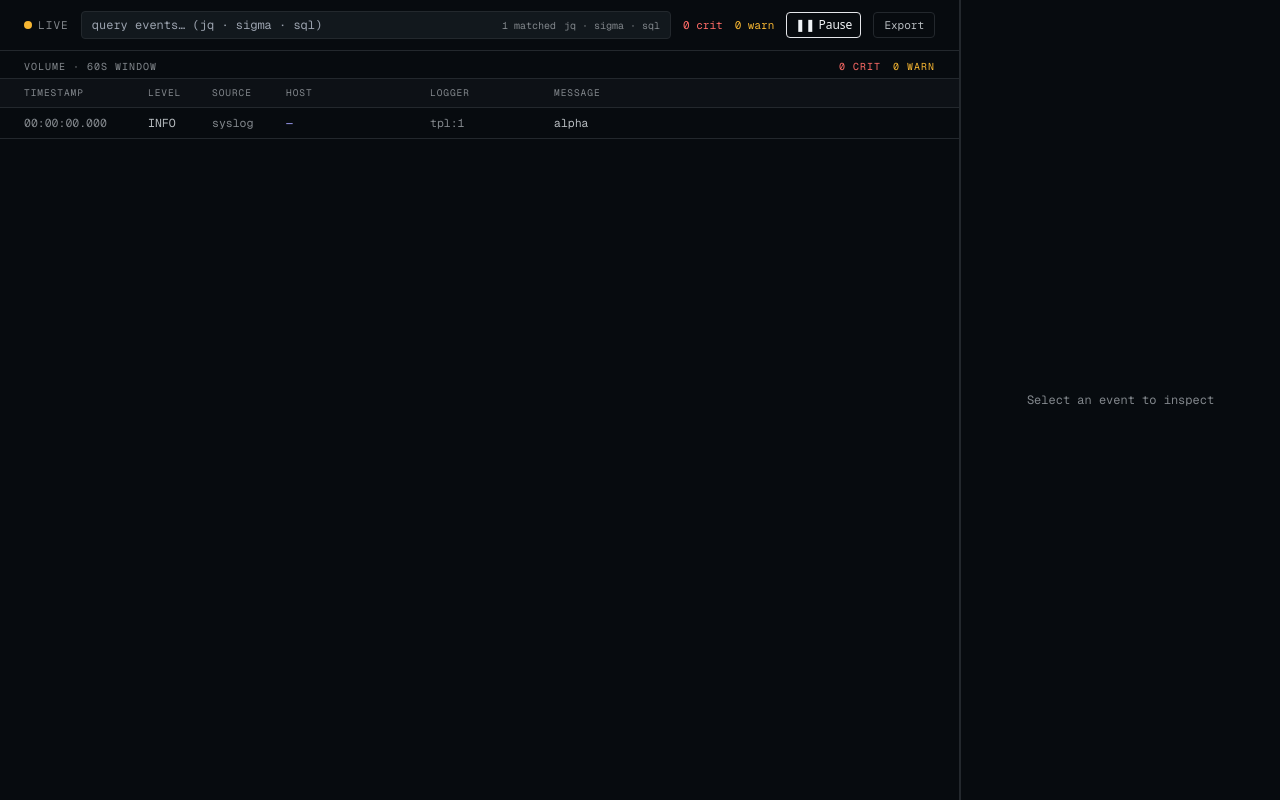
it: EventsScreen › shows an empty-match message when a query matches nothing
The width and height of the screenshot is (1280, 800).
Expected: the text "1 matched" is shown, [502,18,556,32]
Type "zzznotpresent" into the field with test id "event-query-field" at (293, 25), box [92,16,494,34]
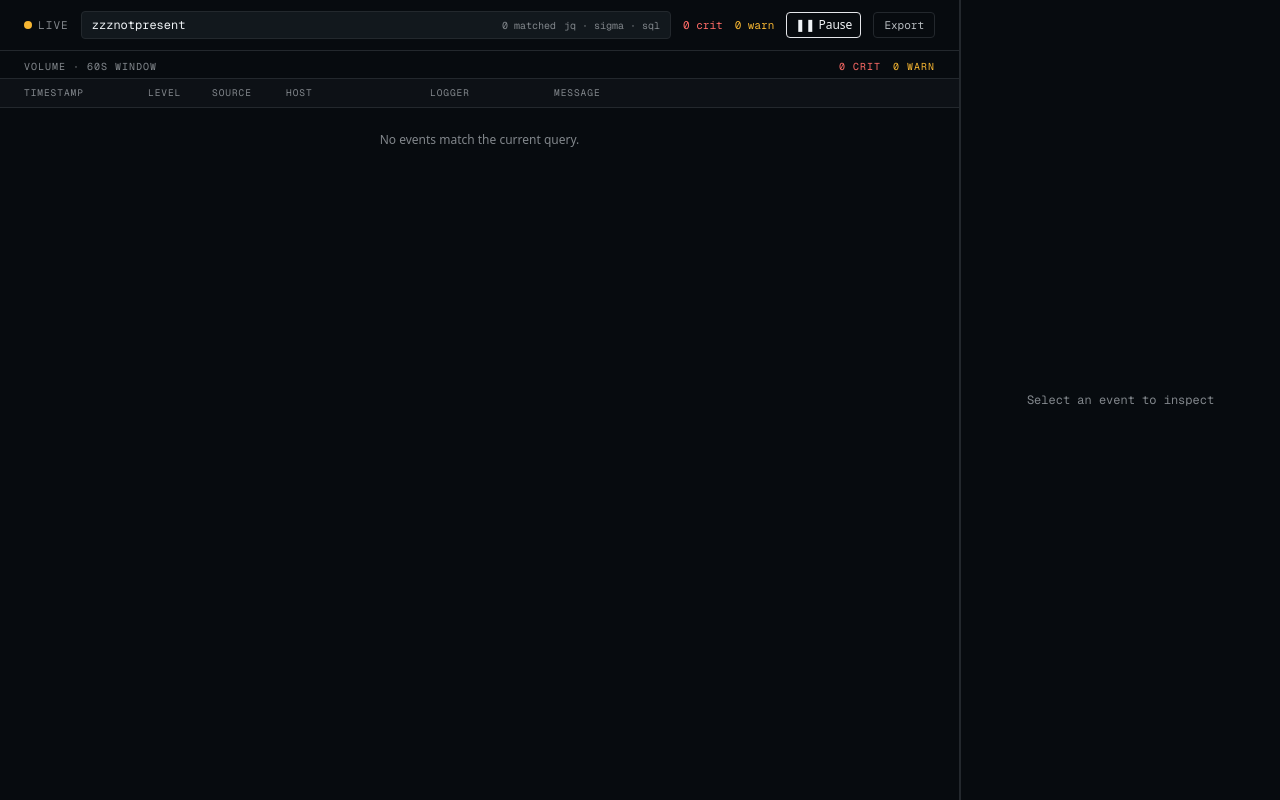
Now the text "No events match the current query." is shown, box [380,131,579,148]
Now the text with test id "event-match-count" shows "0", box [502,18,508,32]
